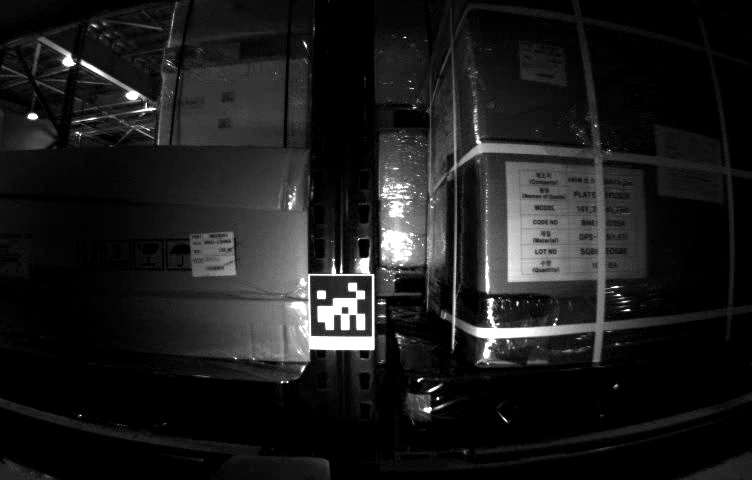True Barcode: (516, 39, 568, 84), (190, 233, 239, 279)
